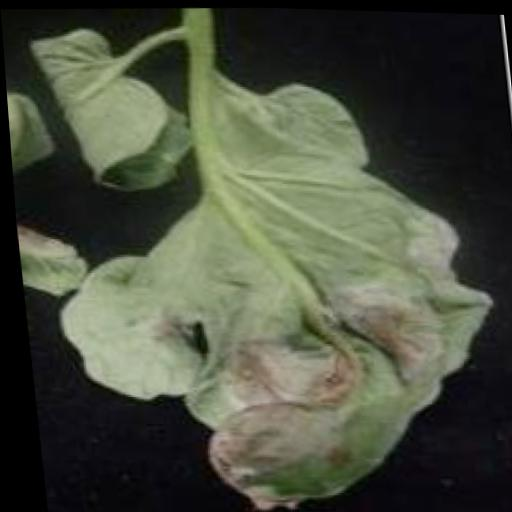Late Blight: (0, 5, 511, 512)
